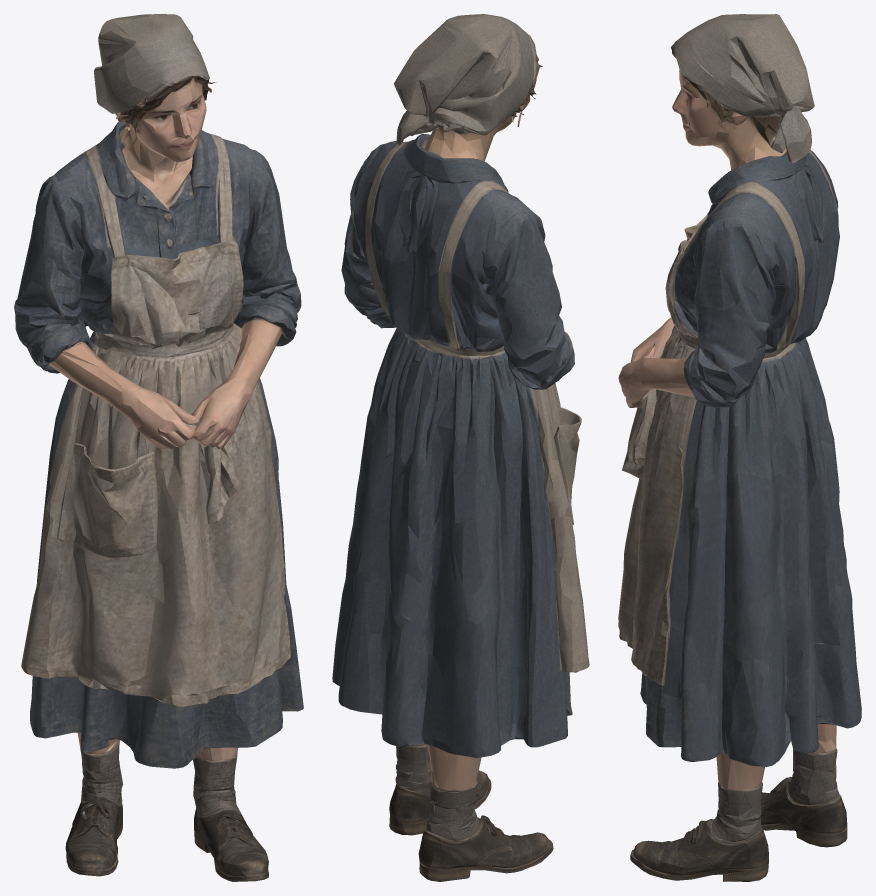
File: cast_lower_woman.glb
3 views of the same model, side by side, from view 1: azimuth 30°, elevation 25°; view 2: azimuth 150°, elevation 25°; view 3: azimuth 270°, elevation 25° (orthographic). The views are drawn at different scales.
Visible parts, largest first — view 1: CastLowerWomanMesh; view 2: CastLowerWomanMesh; view 3: CastLowerWomanMesh.
Boxes of the visible parts, <box> form: CastLowerWomanMesh: <box>14,14,303,881</box>; CastLowerWomanMesh: <box>332,14,589,881</box>; CastLowerWomanMesh: <box>618,14,861,881</box>.
Bounding box in the file's own units: 0.613 × 1.9 × 0.5091.
1 material, 1 textured.
